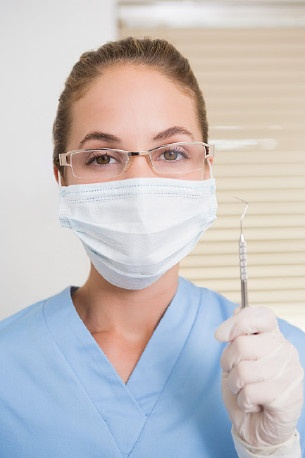Mask: (54, 113, 233, 291)
